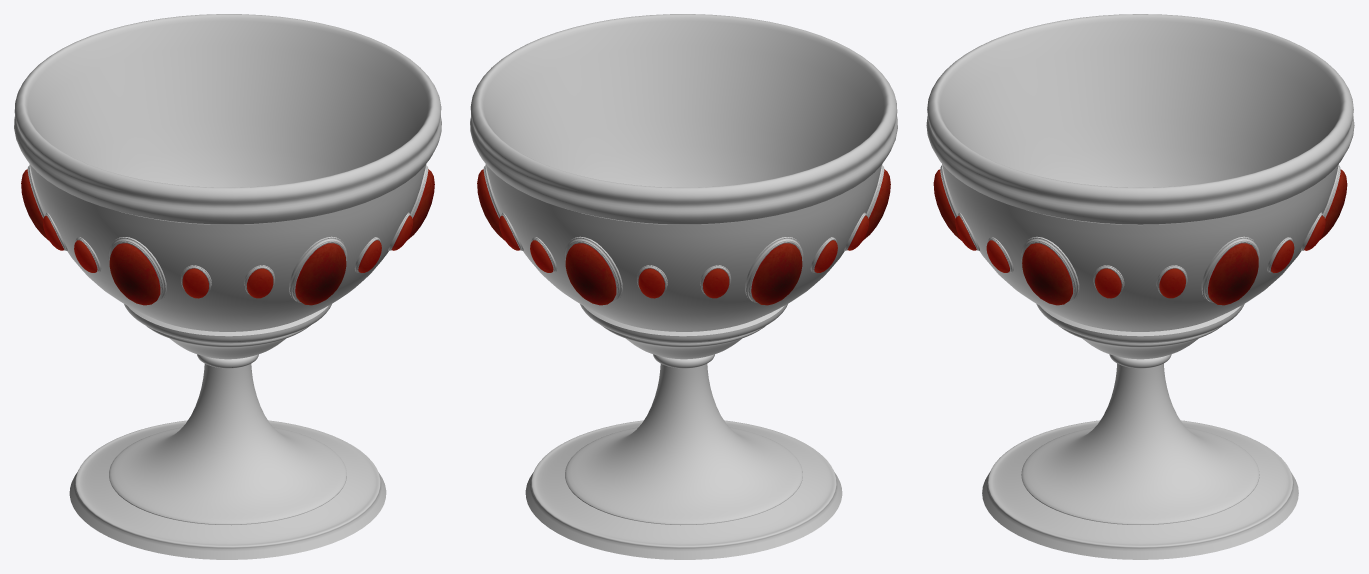
Rendered from grail.fbx.
The picture shows the model from 3 angles, left to right: view 1: azimuth 30°, elevation 25°; view 2: azimuth 150°, elevation 25°; view 3: azimuth 270°, elevation 25°; orthographic projection.
Visible parts, largest first — view 1: Cylinder, Icosphere.001, Icosphere.002; view 2: Cylinder, Icosphere.001, Icosphere.002; view 3: Cylinder, Icosphere.001, Icosphere.002.
Part boxes in pixels (x1,y1,x2,y2): Cylinder: (14, 14, 441, 559); Icosphere.001: (21, 169, 434, 305); Icosphere.002: (27, 164, 428, 302); Cylinder: (470, 14, 897, 559); Icosphere.001: (477, 169, 890, 305); Icosphere.002: (483, 164, 884, 302); Cylinder: (926, 14, 1354, 559); Icosphere.001: (933, 169, 1347, 305); Icosphere.002: (940, 164, 1340, 302).
Size of the model in its own units: 3.11 by 3.15 by 3.11.
